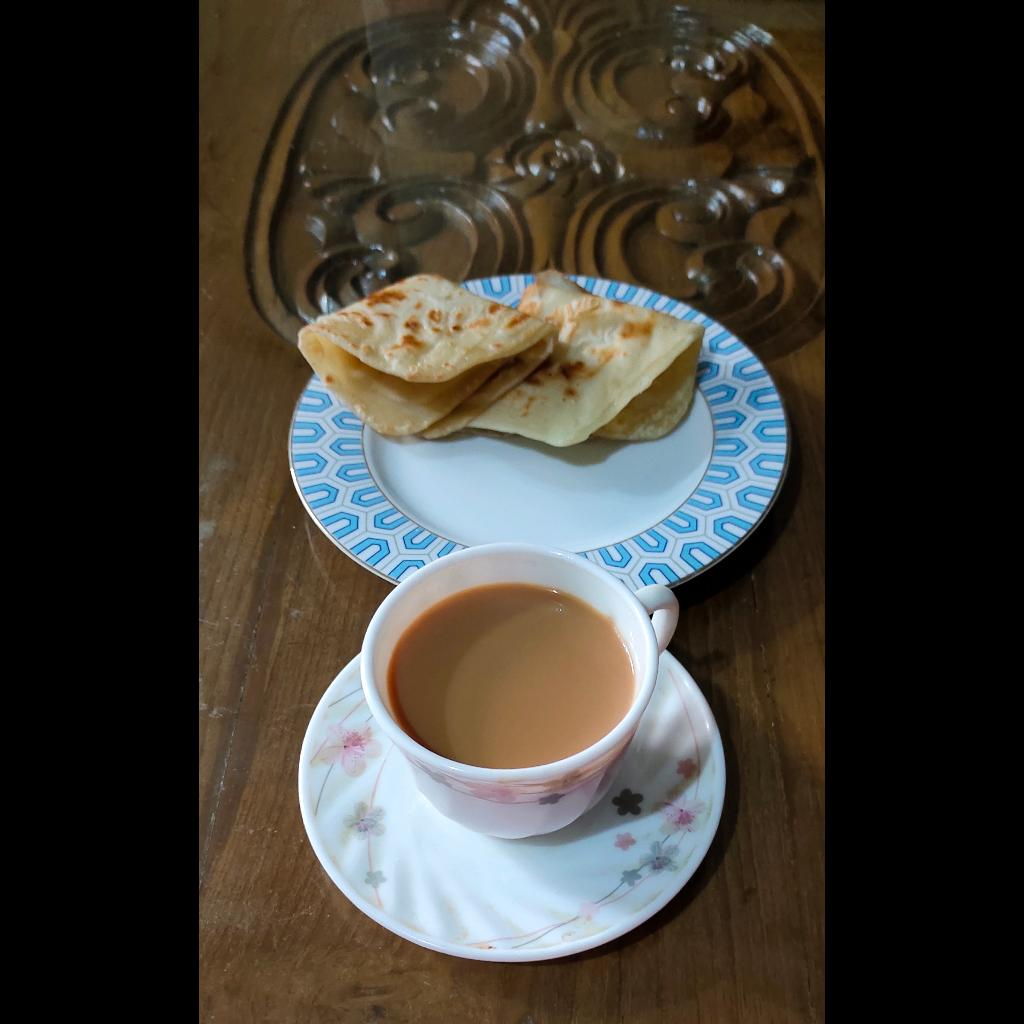cha: (386, 579, 634, 764)
ruti: (296, 261, 700, 446)
